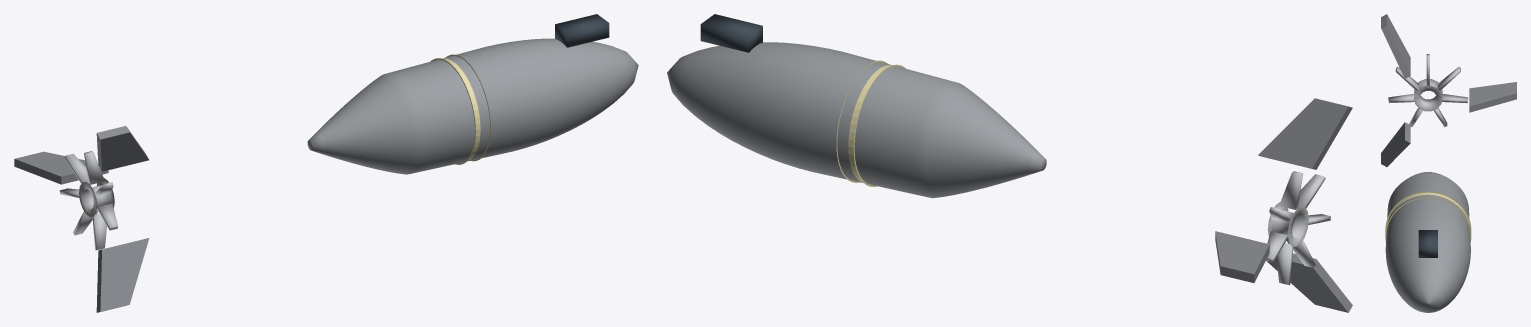
Rendered from US_TORP_Mk27_LOD0.fbx.
3 views of the same model, side by side, from view 1: azimuth 30°, elevation 25°; view 2: azimuth 150°, elevation 25°; view 3: azimuth 270°, elevation 25° (orthographic). The views are drawn at different scales.
Visible parts, largest first — view 1: WPN_US_TORP_Mk27_LOD0_Body, WPN_US_TORP_Mk27_LOD0_Fins, WPN_US_TORP_Mk27_LOD0_Propulsor, WPN_US_TORP_Mk27_LOD0_Seeker, WPN_US_TORP_Mk27_LOD0_Marking; view 2: WPN_US_TORP_Mk27_LOD0_Body, WPN_US_TORP_Mk27_LOD0_Fins, WPN_US_TORP_Mk27_LOD0_Propulsor, WPN_US_TORP_Mk27_LOD0_Seeker, WPN_US_TORP_Mk27_LOD0_Marking; view 3: WPN_US_TORP_Mk27_LOD0_Body, WPN_US_TORP_Mk27_LOD0_Fins, WPN_US_TORP_Mk27_LOD0_Propulsor, WPN_US_TORP_Mk27_LOD0_Marking, WPN_US_TORP_Mk27_LOD0_Seeker.
Boxes of the visible parts, x1,y1,x2,y2 form: WPN_US_TORP_Mk27_LOD0_Body: (307, 38, 638, 174); WPN_US_TORP_Mk27_LOD0_Fins: (14, 126, 149, 312); WPN_US_TORP_Mk27_LOD0_Propulsor: (59, 151, 117, 250); WPN_US_TORP_Mk27_LOD0_Seeker: (555, 14, 609, 47); WPN_US_TORP_Mk27_LOD0_Marking: (430, 54, 490, 164); WPN_US_TORP_Mk27_LOD0_Body: (667, 42, 1046, 198); WPN_US_TORP_Mk27_LOD0_Fins: (1215, 98, 1352, 312); WPN_US_TORP_Mk27_LOD0_Propulsor: (1266, 171, 1330, 285); WPN_US_TORP_Mk27_LOD0_Seeker: (700, 14, 762, 52); WPN_US_TORP_Mk27_LOD0_Marking: (836, 60, 905, 186); WPN_US_TORP_Mk27_LOD0_Body: (1385, 172, 1470, 312); WPN_US_TORP_Mk27_LOD0_Fins: (1381, 14, 1516, 166); WPN_US_TORP_Mk27_LOD0_Propulsor: (1388, 54, 1468, 127); WPN_US_TORP_Mk27_LOD0_Marking: (1385, 191, 1471, 241); WPN_US_TORP_Mk27_LOD0_Seeker: (1418, 230, 1437, 257).
Bounding box in the file's own units: 3.23 × 0.8477 × 0.9789.
